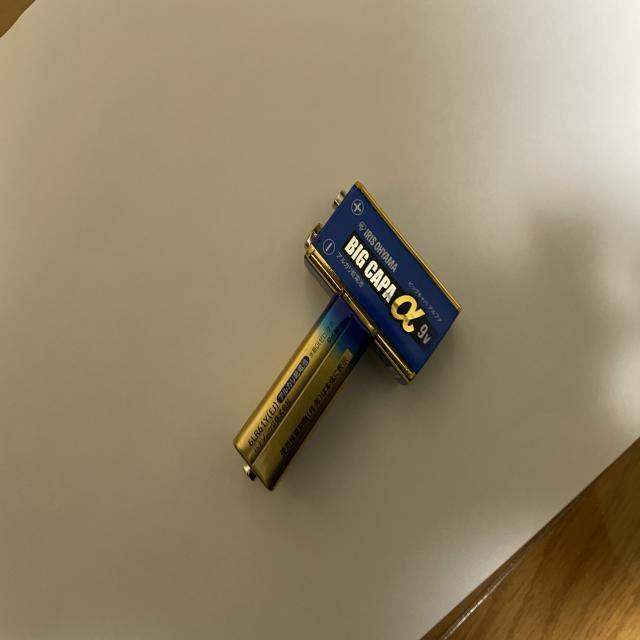9V: (304, 180, 462, 385), (233, 292, 376, 493)
